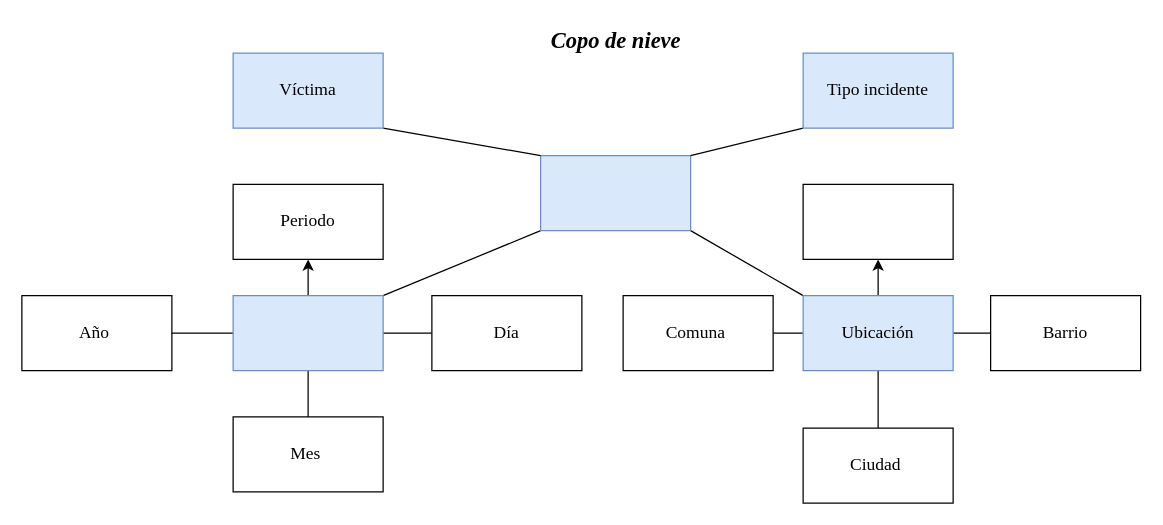
The diagram is 1163 pixels wide and 525 high, and some of its shapes have lost their labels. Each missing label, with the centre of its shape:
"Dirección" goes at pixel 877 221.
"Incidentes" goes at pixel 615 192.
"Tiempo" goes at pixel 307 332.
